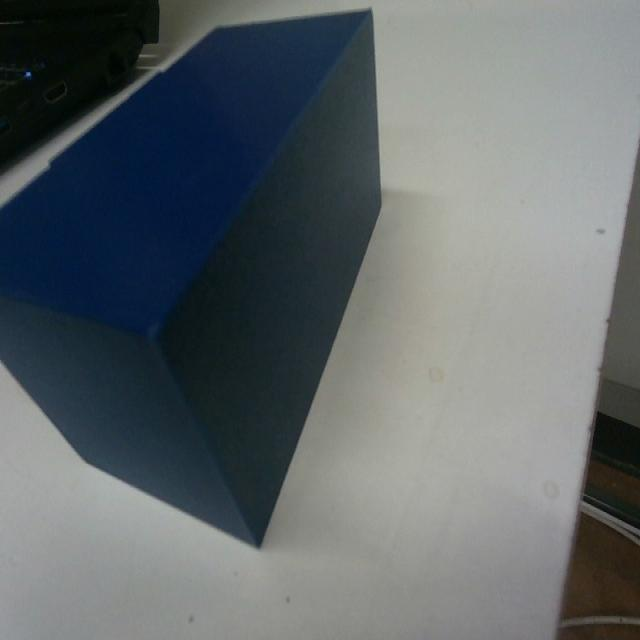Blue Cuboid: (0, 5, 384, 548)
